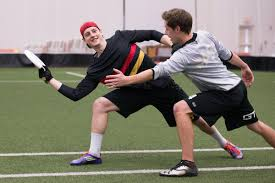disc: (22, 49, 47, 72)
